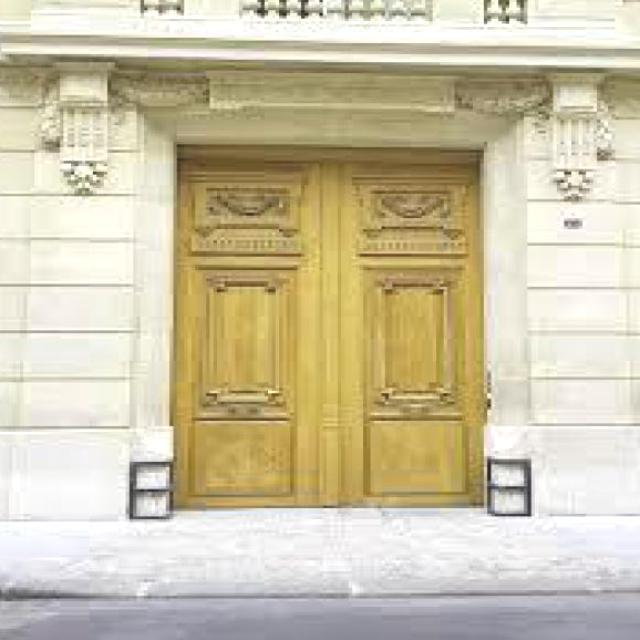door: (167, 140, 335, 512), (338, 141, 484, 510)
